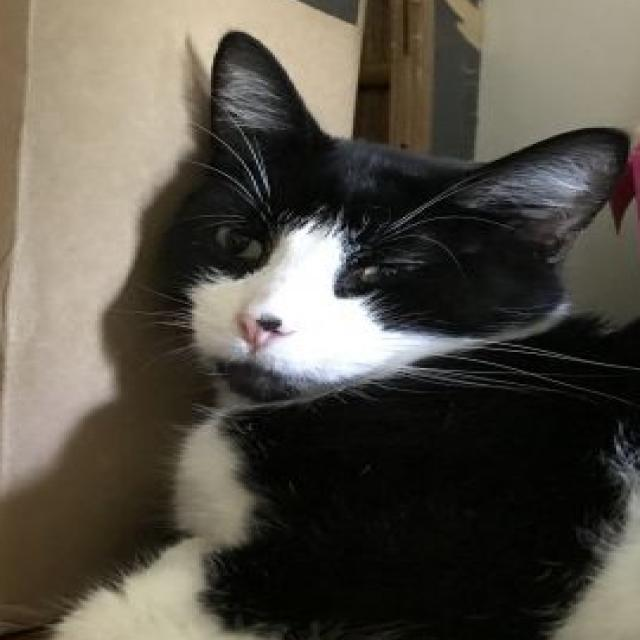Tuxedo: (28, 26, 639, 640)
